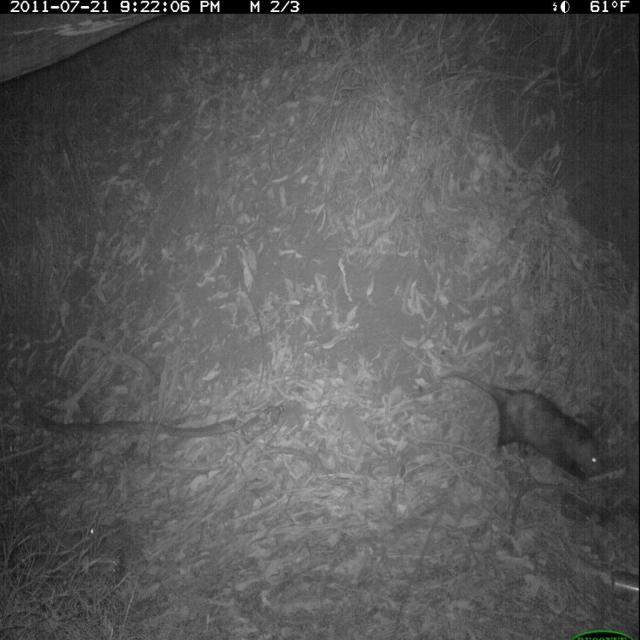opossum: (437, 362, 620, 507)
